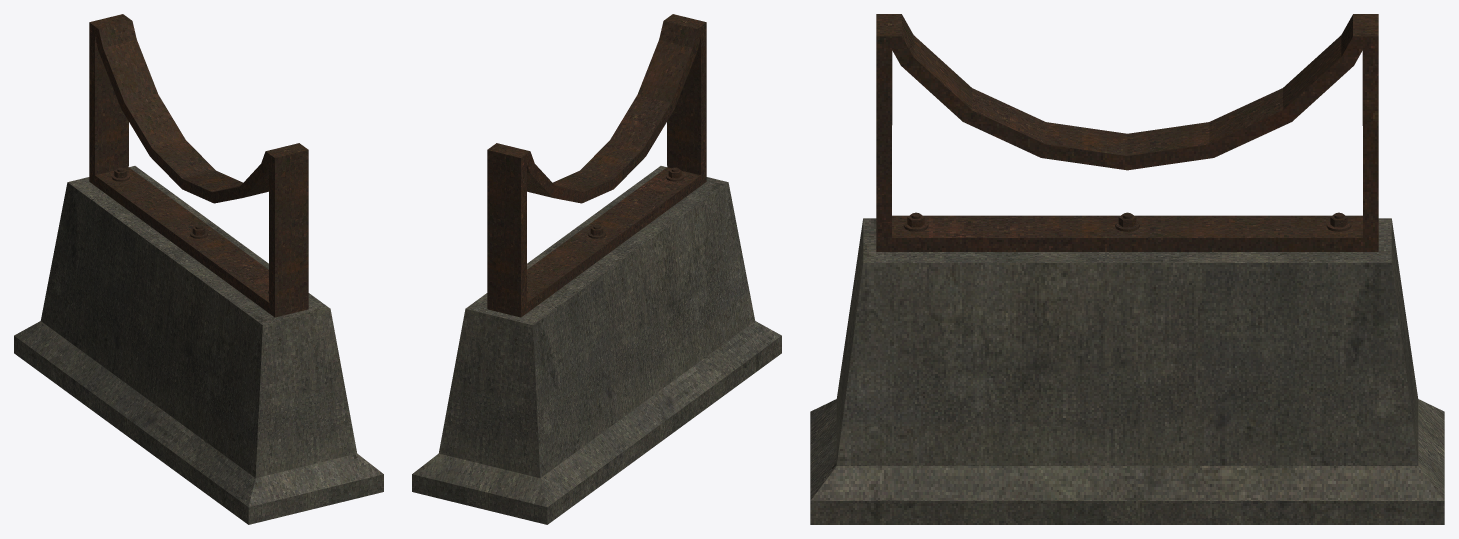
Rendered from stand_mx_2.glb.
3 views of the same model, side by side, from view 1: azimuth 30°, elevation 25°; view 2: azimuth 150°, elevation 25°; view 3: azimuth 270°, elevation 25° (orthographic). The views are drawn at different scales.
Visible parts, largest first — view 1: stand_mx_2; view 2: stand_mx_2; view 3: stand_mx_2.
Part boxes in pixels (x1,y1,x2,y2): stand_mx_2: (14, 14, 383, 524); stand_mx_2: (412, 14, 781, 524); stand_mx_2: (810, 14, 1444, 524).
Size of the model in its own units: 0.8 by 1.9 by 2.4.
2 materials, 2 textured.
